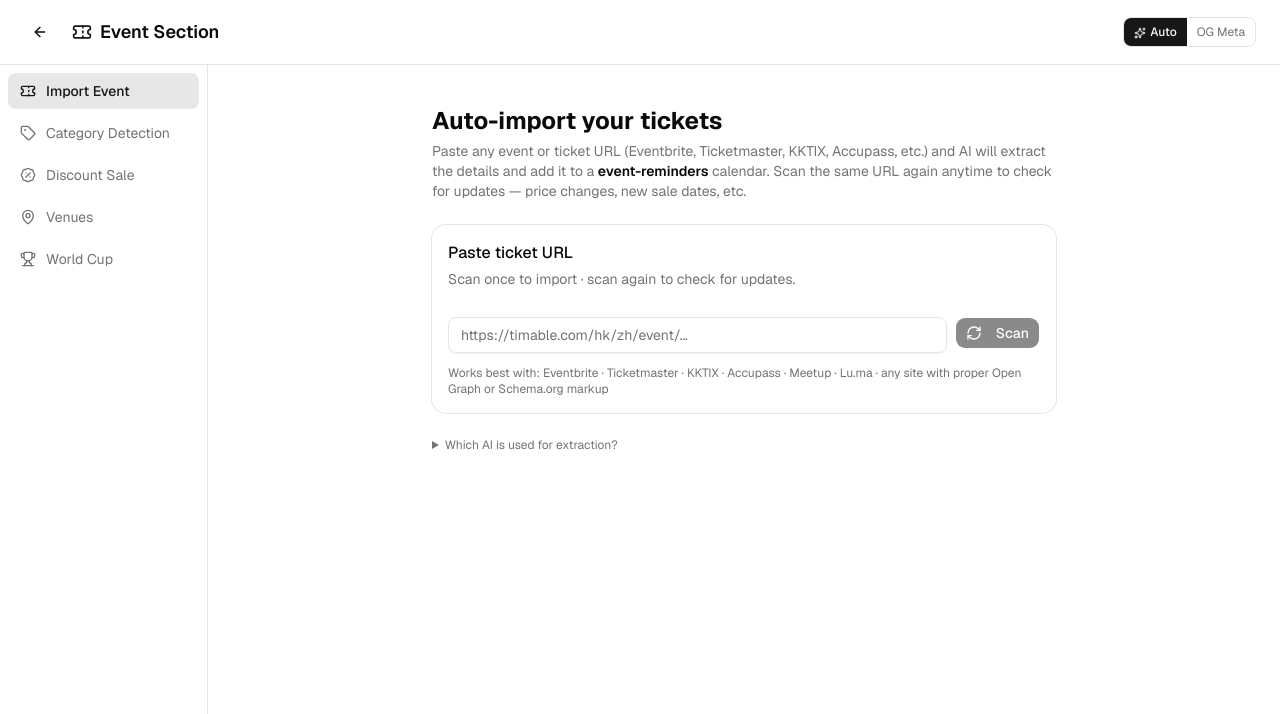
Scenario: TicketSection — venue seat-map hint › shows no badge for a venue that isn't in the built-in registry
The image size is (1280, 714).
Type "https://example.com/event/1" into the field with placeholder "https://timable.com/hk/zh/event/…".
click(697, 335); type("https://example.com/event/1")  # box [448,317,947,353]
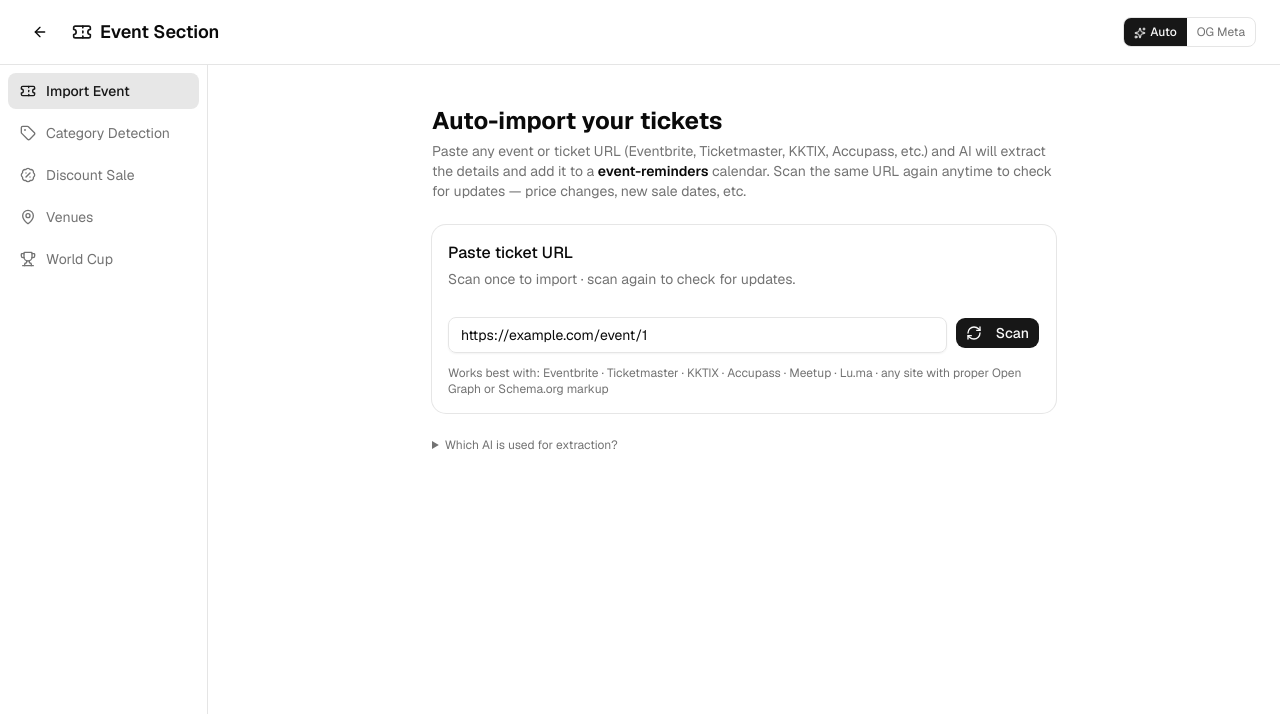
Click the button "Scan".
click(997, 333)  # box [955,317,1040,349]
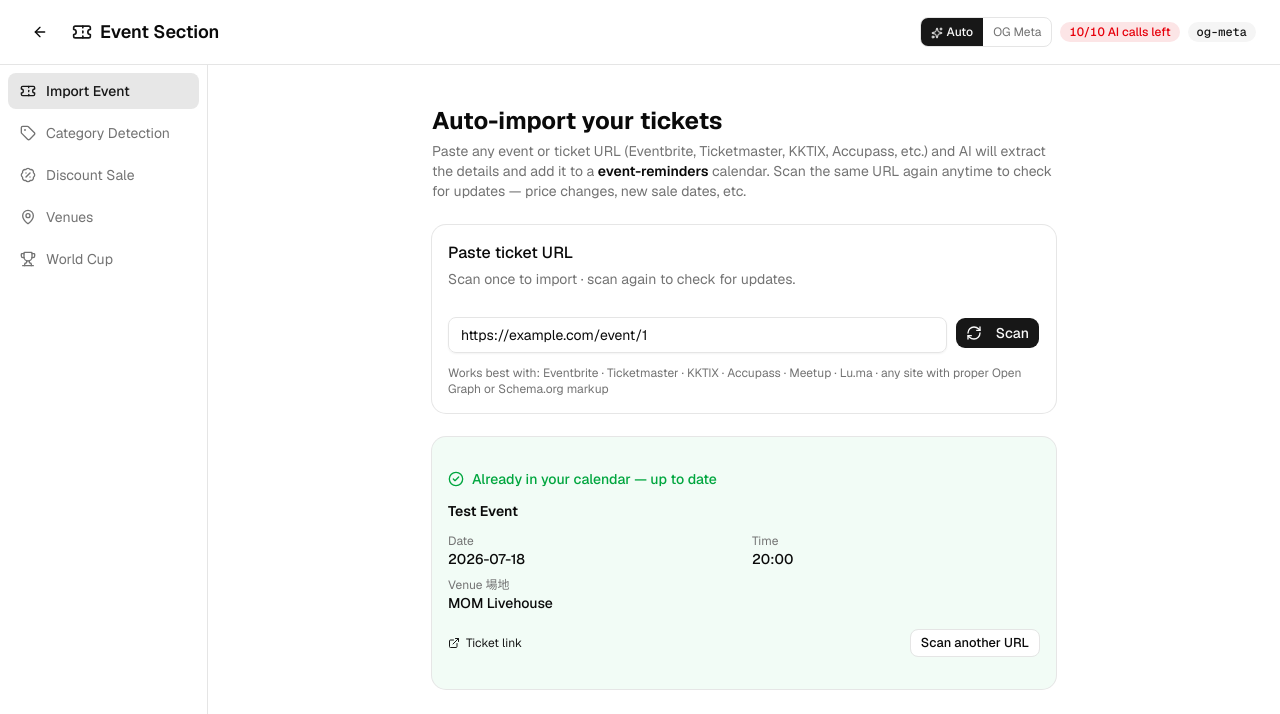
Result: the text "Already in your calendar — up to date" is shown at [448,470,717,488]
